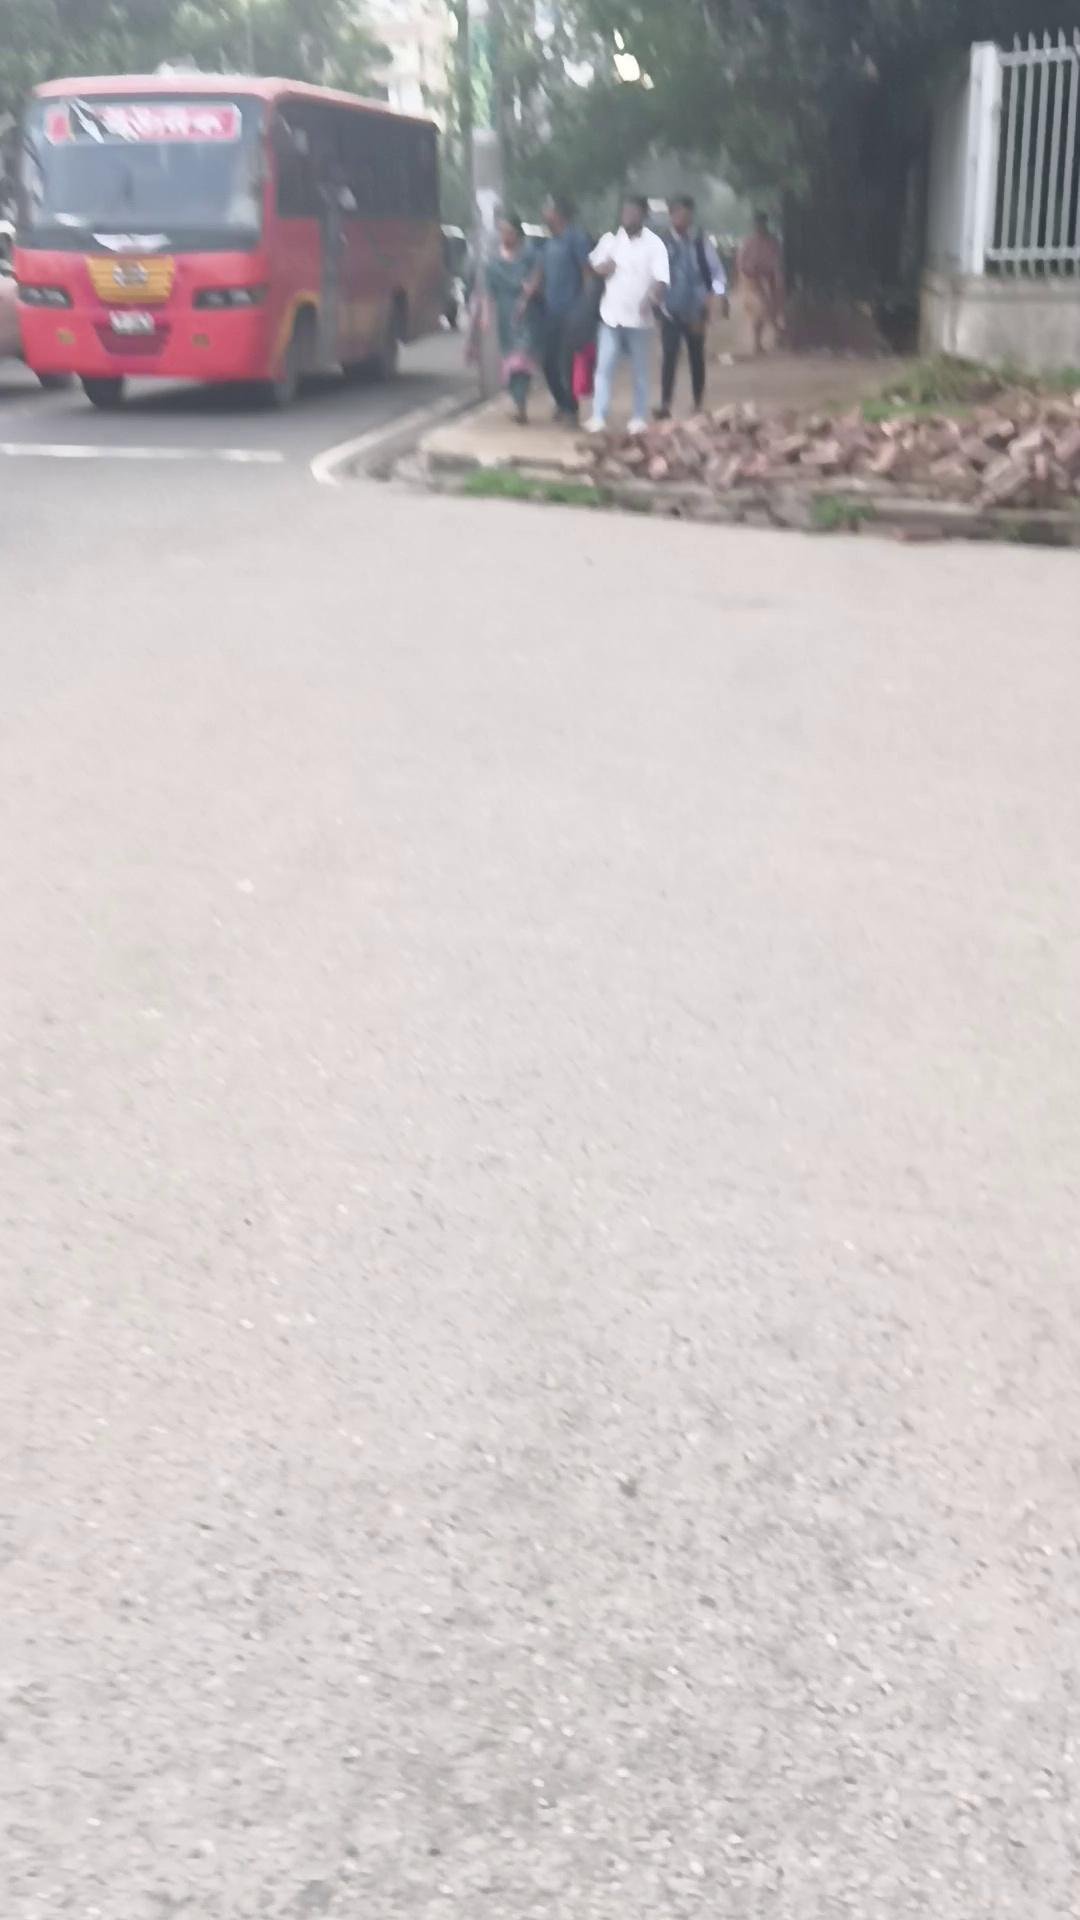Crosswalk: (309, 378, 491, 489)
Motorcycle: (414, 392, 1075, 547)
Muddy road: (582, 193, 673, 436), (512, 189, 597, 426), (651, 193, 731, 419), (473, 208, 543, 425), (736, 208, 787, 357)
Traffic-sign: (8, 65, 462, 409)
